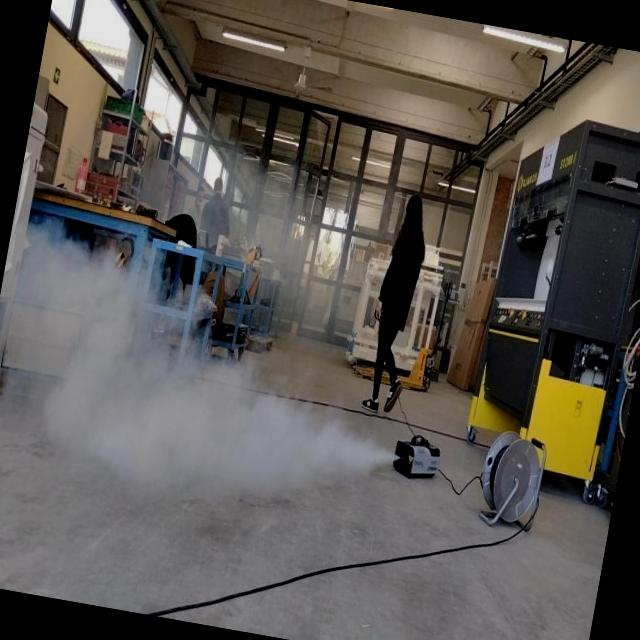smoke: (0, 231, 415, 532)
